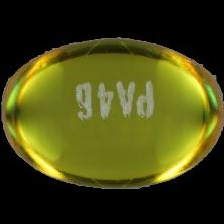63629-2655: (0, 0, 224, 224)
